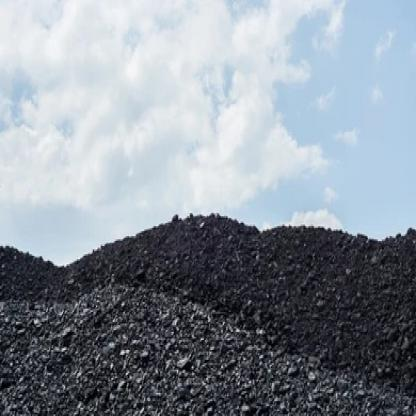Sedimentary_coal: (56, 322, 74, 342), (173, 353, 191, 370), (306, 370, 322, 388), (158, 302, 174, 317), (238, 400, 255, 414), (140, 344, 151, 358)
